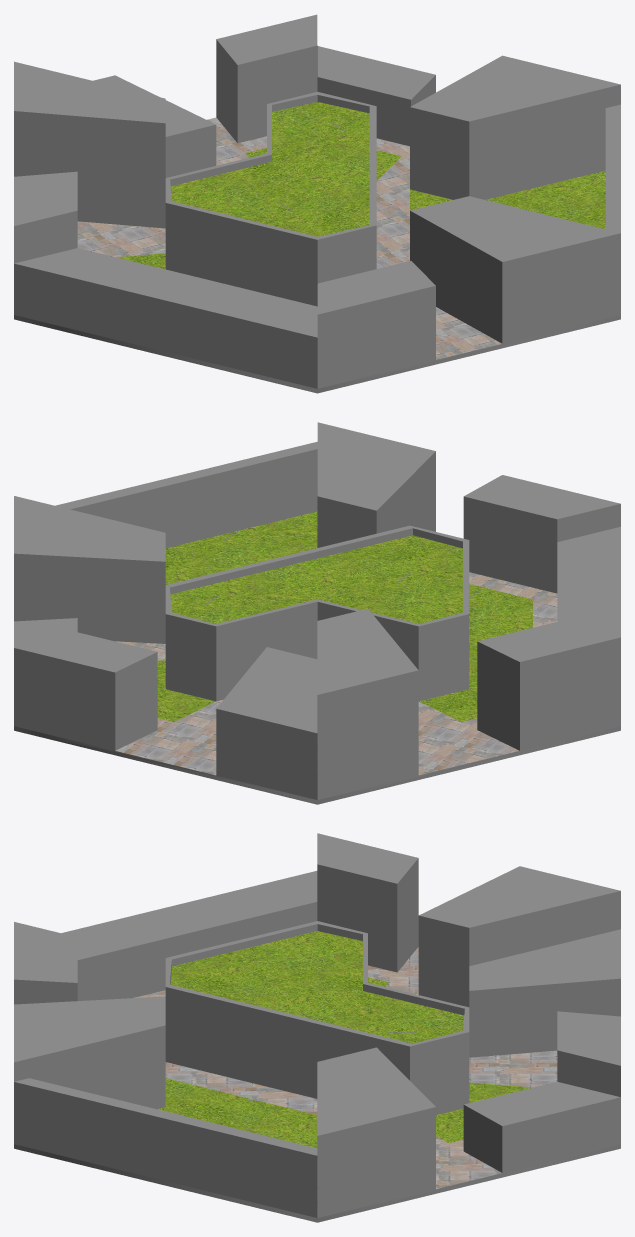
The picture shows the model from 3 angles, top to bottom: view 1: azimuth 30°, elevation 25°; view 2: azimuth 150°, elevation 25°; view 3: azimuth 270°, elevation 25°; orthographic projection.
Parts seen in each view (by area): view 1: Cylinder031; view 2: Cylinder031; view 3: Cylinder031.
Part boxes in pixels (bbox=[...]): Cylinder031: bbox=[14, 14, 620, 393]; Cylinder031: bbox=[14, 422, 620, 804]; Cylinder031: bbox=[14, 833, 620, 1222].
Bounding box in the file's own units: 140 × 24.18 × 121.
5 materials, 2 textured.
